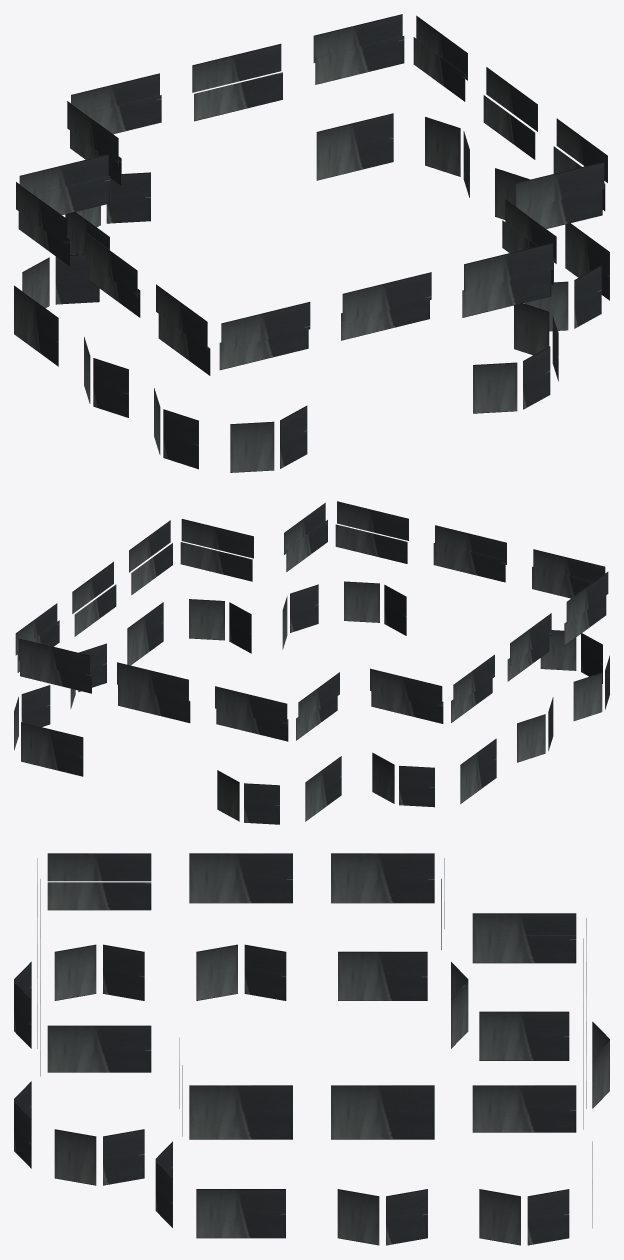
File: TRANS_Building_2stores_DoubleHouse.obj
3 views of the same model, one above another, from view 1: azimuth 30°, elevation 25°; view 2: azimuth 150°, elevation 25°; view 3: azimuth 270°, elevation 25° (orthographic). The views are drawn at different scales.
Visible parts, largest first — view 1: TRANS_Building_2stores_DoubleHouse; view 2: TRANS_Building_2stores_DoubleHouse; view 3: TRANS_Building_2stores_DoubleHouse.
Boxes of the visible parts, x1,y1,x2,y2 form: TRANS_Building_2stores_DoubleHouse: (14, 14, 609, 472); TRANS_Building_2stores_DoubleHouse: (14, 501, 609, 824); TRANS_Building_2stores_DoubleHouse: (14, 853, 609, 1245).
Size of the model in its own units: 5.52 by 1.54 by 5.52.
